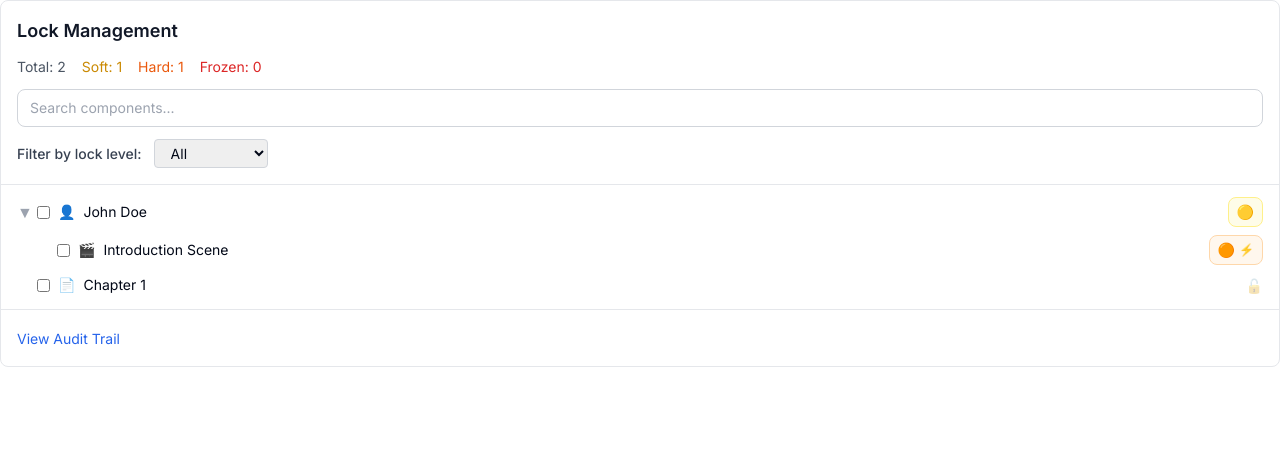
Test: LockManagementPanel › Bulk Operations › shows bulk operation controls when components are selected
The image size is (1280, 450).
Note: Select first component
What coordinates should you click on to do the following:
click the checkbox next to "John Doe"
I would click on:
 (44, 212)
Its box is [37, 206, 50, 218].
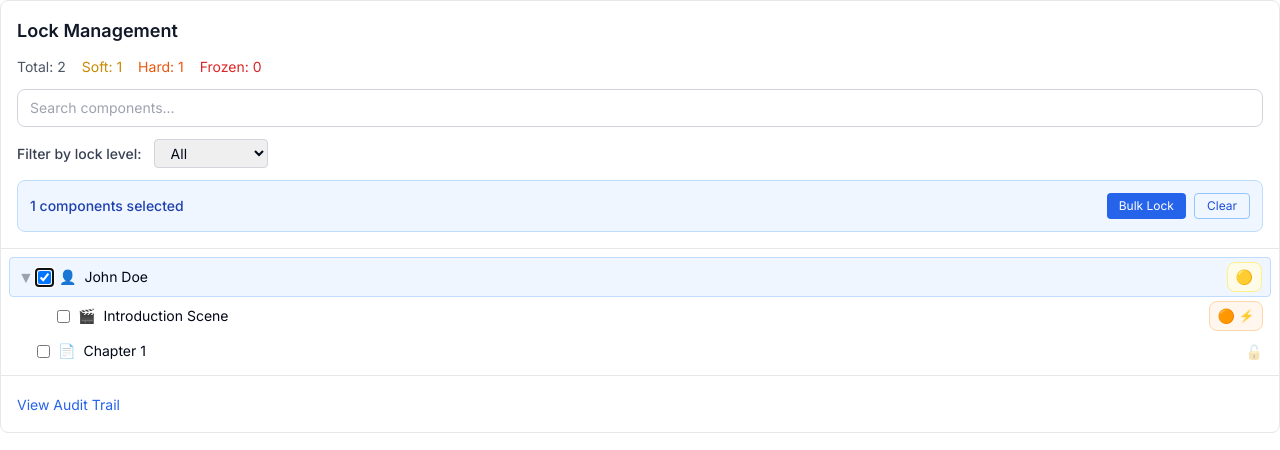
Expected: the text "1 components selected" is shown, [30, 196, 184, 216]
Expected: the button "Bulk Lock" is shown, [1107, 193, 1186, 219]
Expected: the button "Clear" is shown, [1194, 193, 1250, 219]
